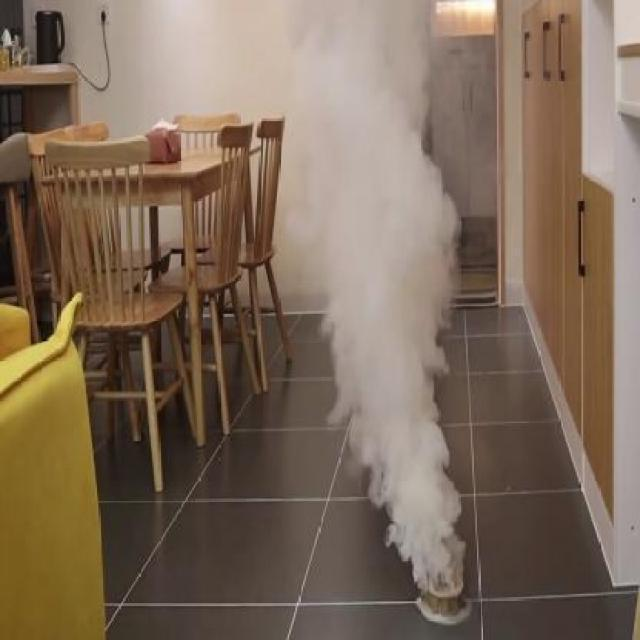Smoke: (285, 1, 468, 597)
